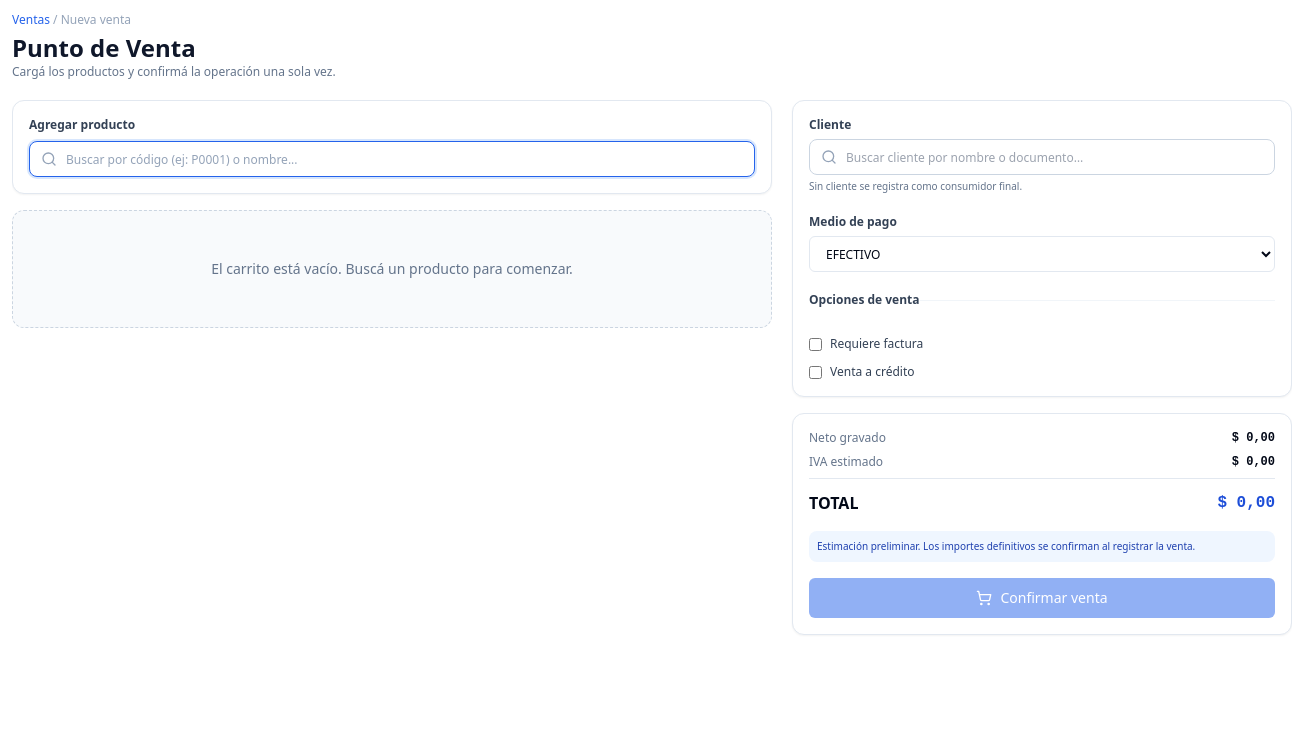
it: SalesNewPage › forces invoice and current account when credit is selected
The width and height of the screenshot is (1292, 732).
Click the checkbox labelled "Venta a crédito" at (816, 372), box 809,366 -> 822,378
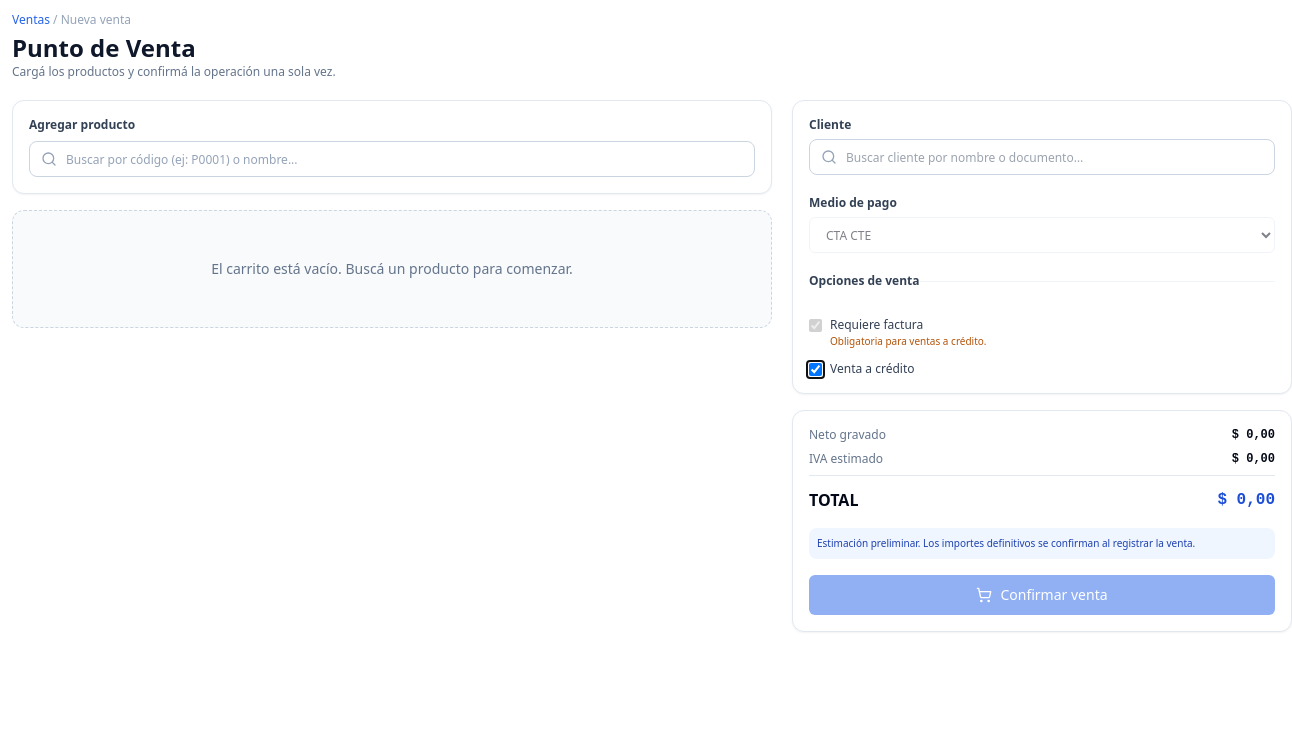
expect the checkbox labelled "Requiere factura Obligatoria para ventas a crédito." is checked: met, box 809,319 -> 822,332
expect the dropdown labelled "Medio de pago" shows "CTA CTE": met, box 809,217 -> 1275,253
